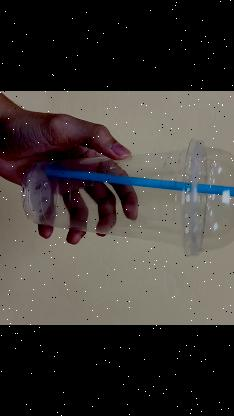Others: (20, 140, 234, 259)
